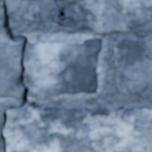brick: (4, 108, 151, 151), (58, 0, 151, 32), (114, 40, 151, 93), (5, 0, 58, 26)
broken_brick: (25, 37, 102, 100), (0, 41, 19, 98)
crack: (0, 1, 40, 151), (51, 0, 74, 26), (17, 0, 38, 3)
